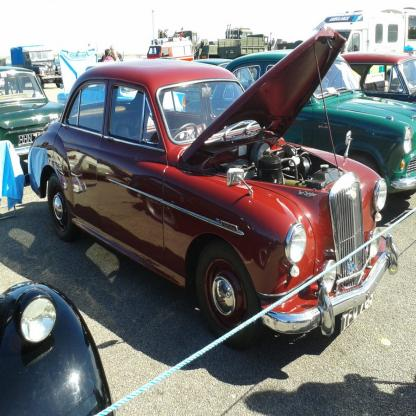Car: (1, 25, 416, 416)
